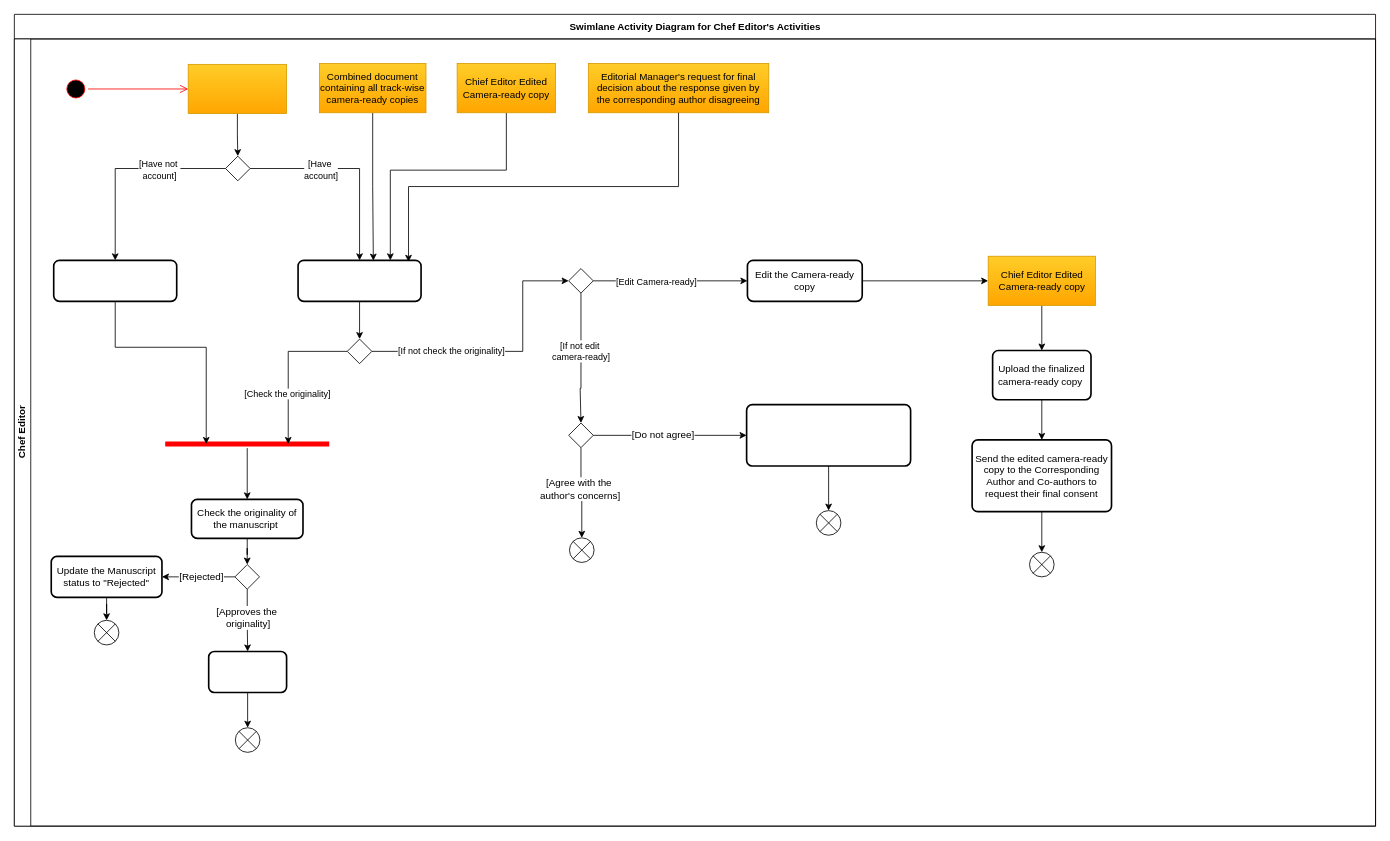
Some shapes in this 1390 by 841 pixel diagram are drawn without their labels. The box of each missing label's shape, as (x1, y1, x2, y2) in pixels:
Create reviewer account: (52, 259, 177, 302)
Formally request the authors to withdraw the camera-ready copy.: (745, 403, 911, 466)
Formatting Corrected Manuscript: (187, 64, 287, 114)
Login via using the Credentials: (297, 259, 421, 302)
Suggest Reviewers: (207, 650, 287, 693)
